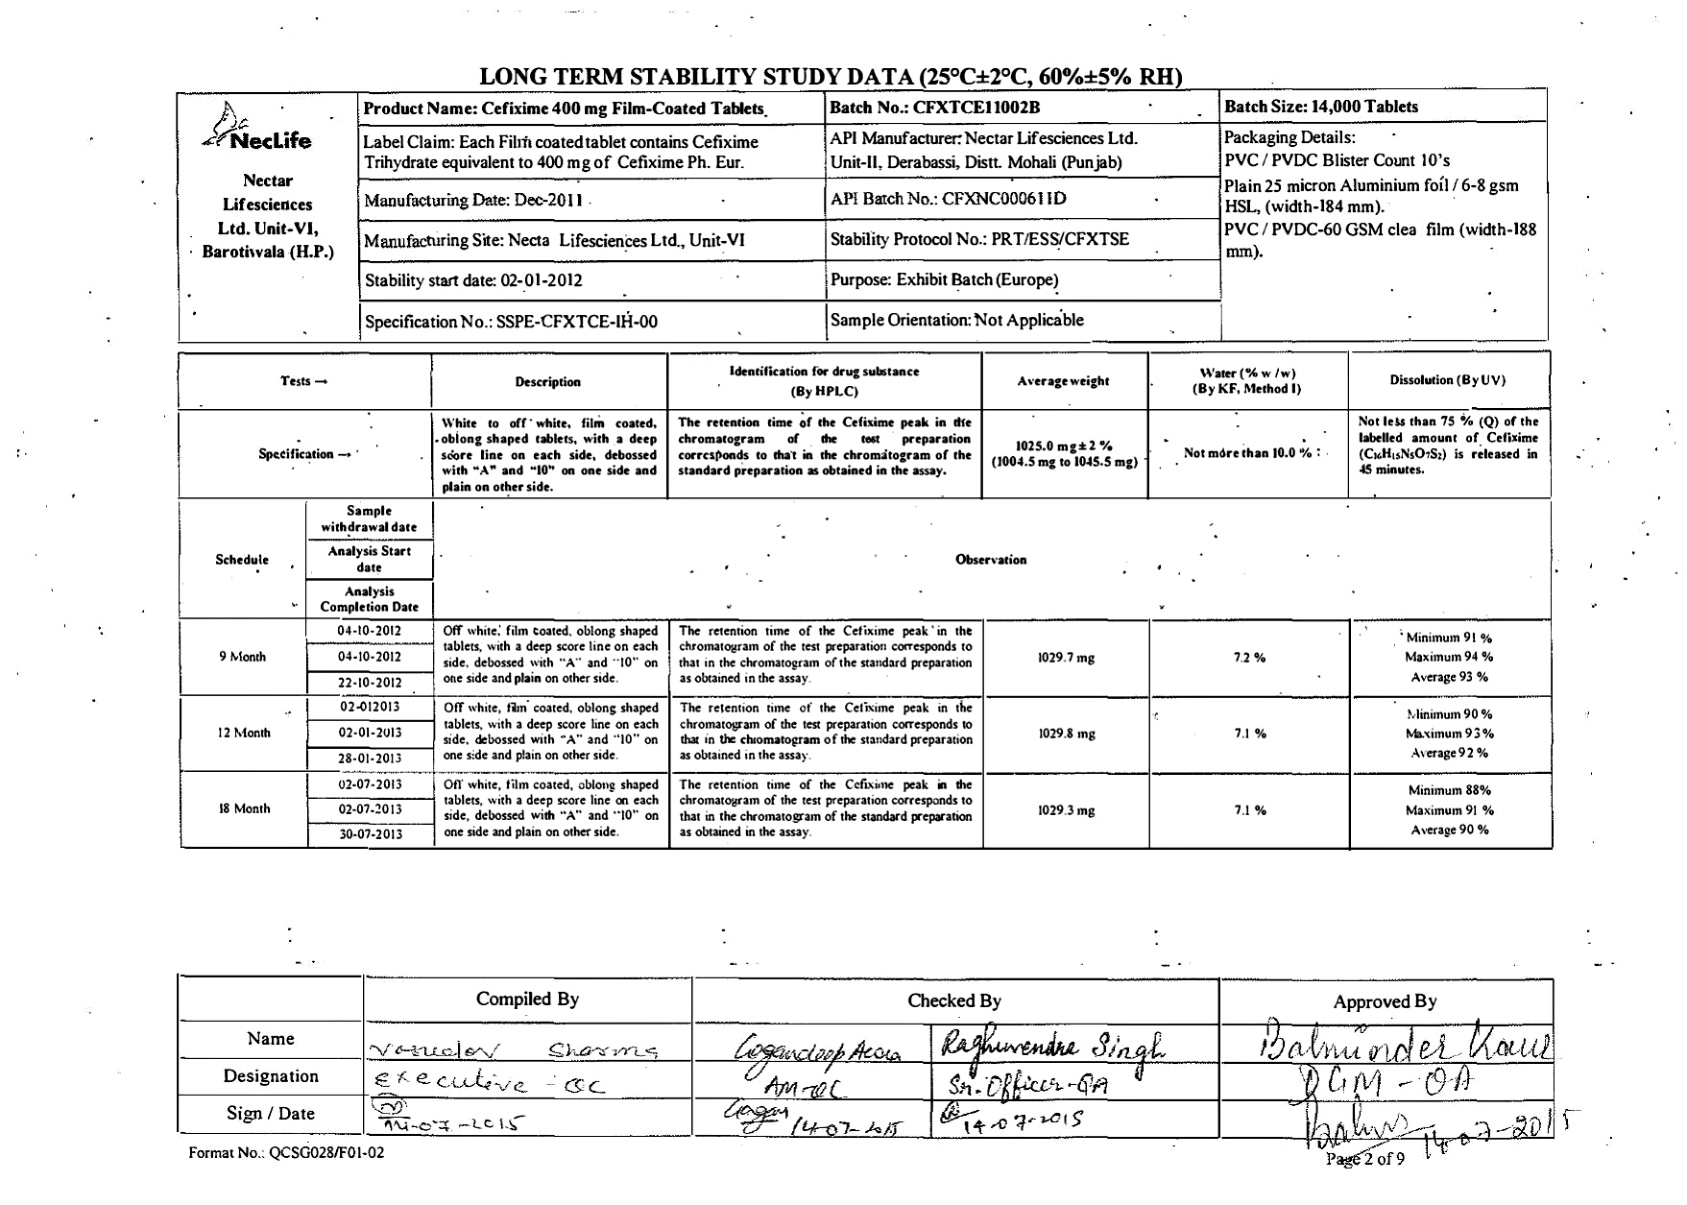merged_cells: (175, 347, 1551, 850), (173, 86, 1550, 343), (176, 972, 1554, 1141)
